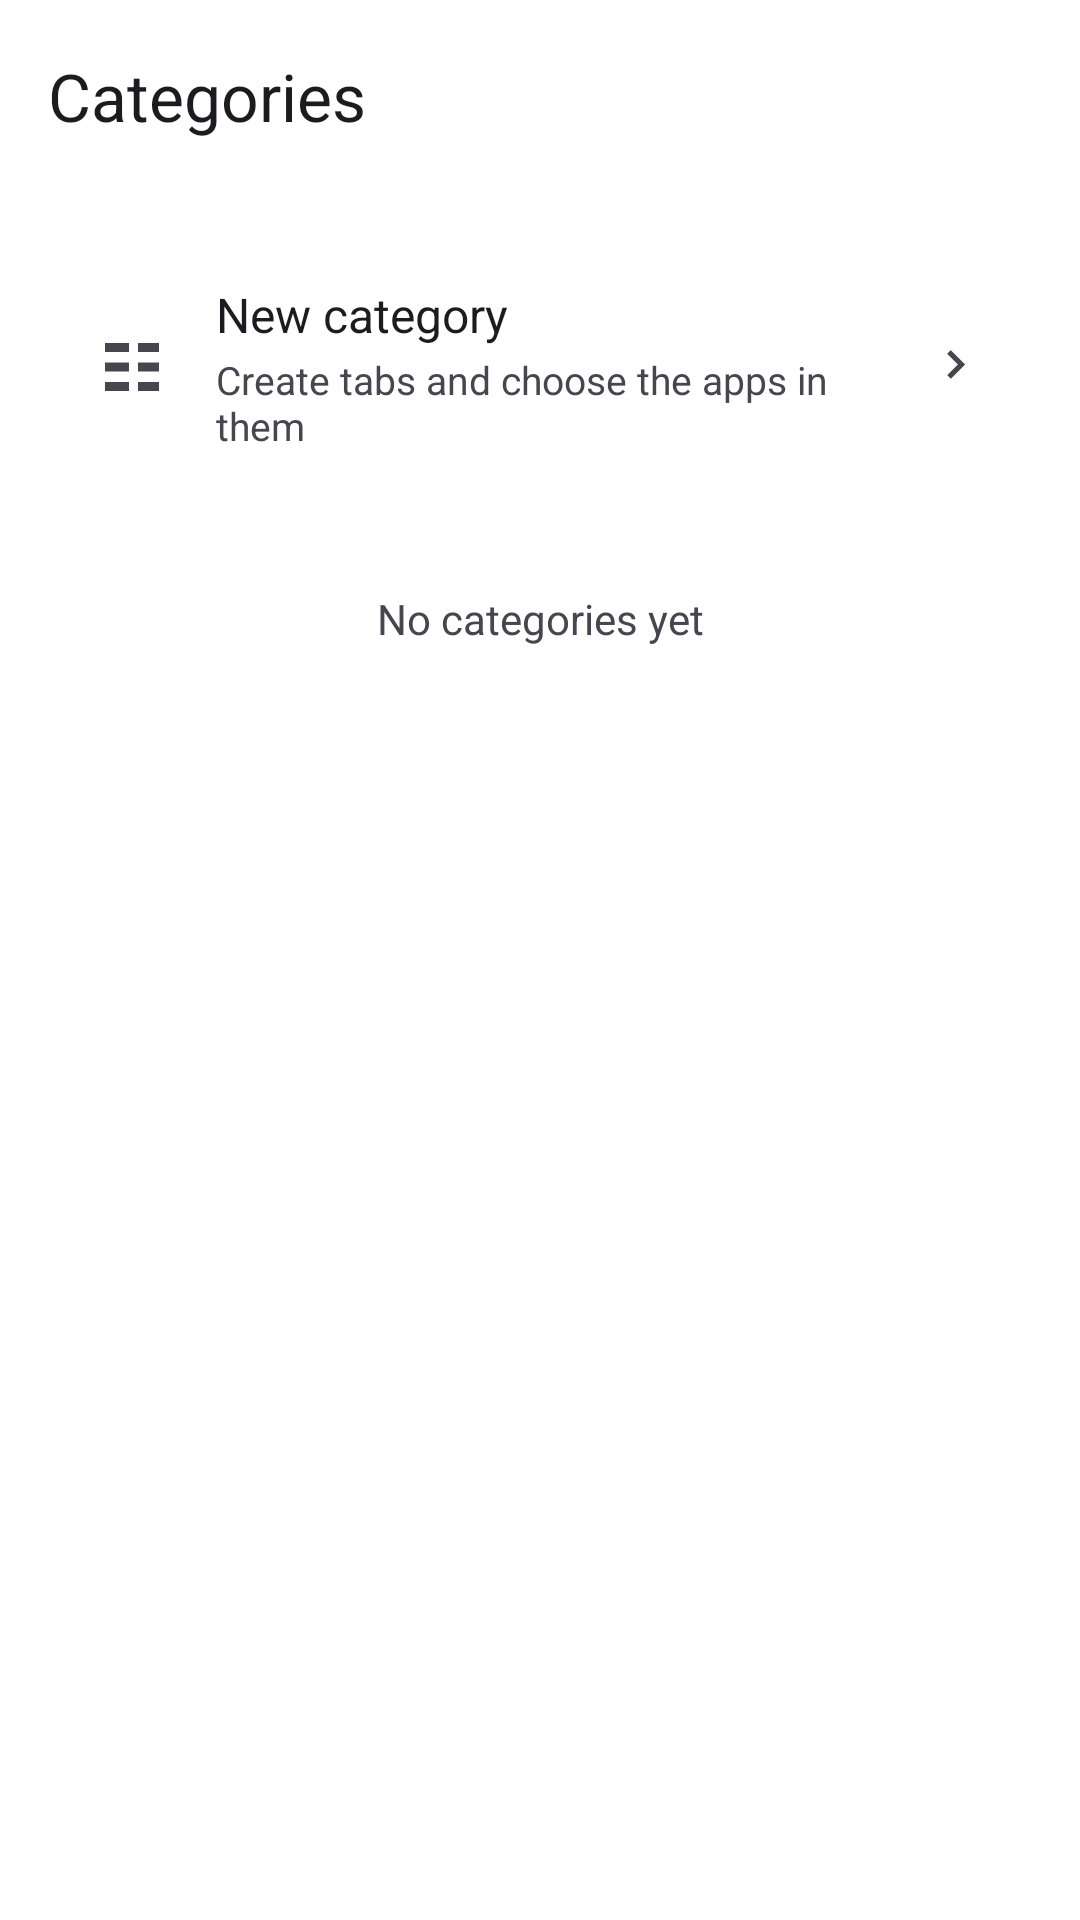

Icon bounding boxes for this 1080w x 1920h phone screenshot, format (x1, y1, x2, y2):
chevron right: (947, 350, 965, 379)
